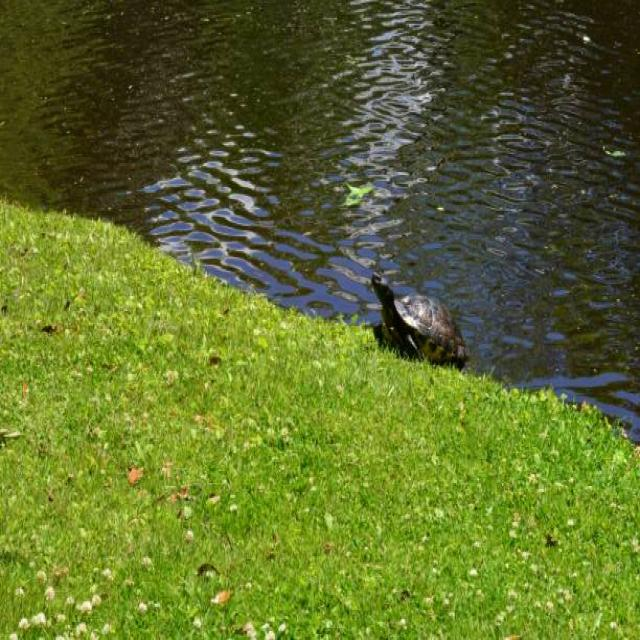terrapin: (396, 287, 474, 356), (368, 266, 400, 318), (400, 324, 420, 377), (372, 313, 395, 357)
